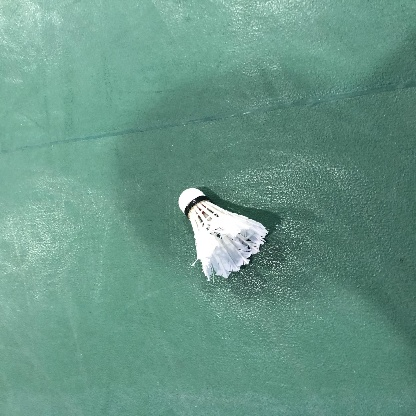ball_single: (179, 188, 268, 281)
